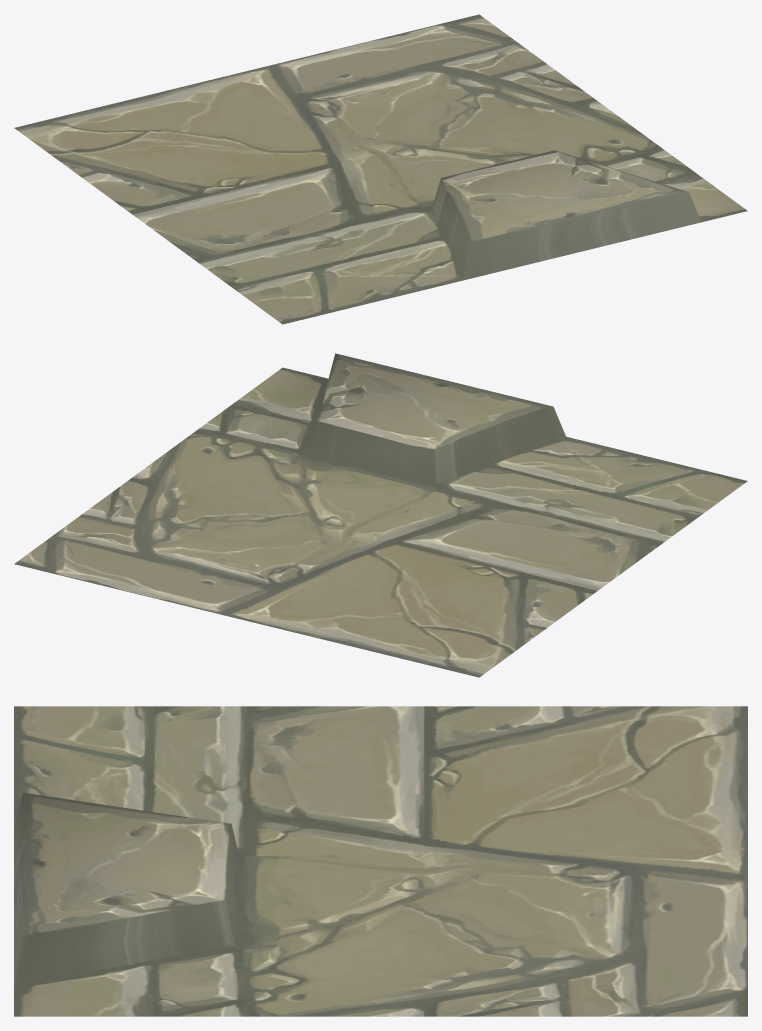
The model's file is flat_type3.fbx.
3 renders of one model, top to bottom at view 1: azimuth 30°, elevation 25°; view 2: azimuth 150°, elevation 25°; view 3: azimuth 270°, elevation 25°, orthographic. The views are drawn at different scales.
Parts seen in each view (by area): view 1: wall4; view 2: wall4; view 3: wall4.
Part boxes in pixels (x1=…): wall4: x1=14, y1=14, x2=747, y2=324; wall4: x1=14, y1=353, x2=747, y2=677; wall4: x1=14, y1=706, x2=747, y2=1016.
Size of the model in its own units: 2 by 0.124 by 2.
